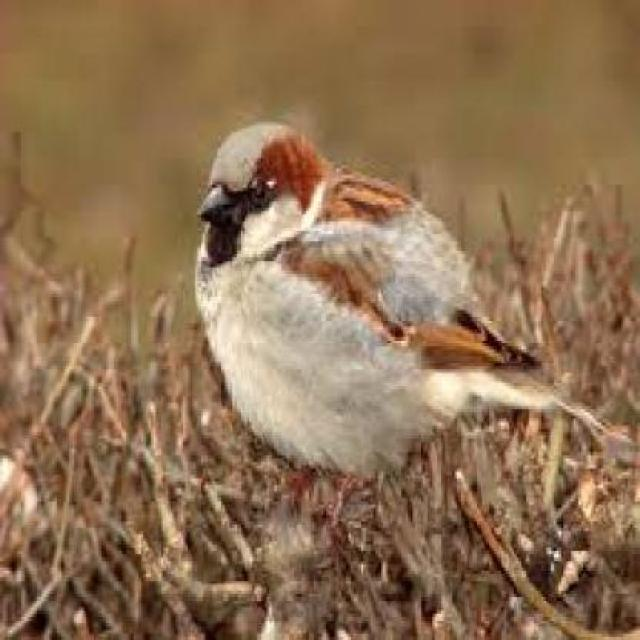sparrow: (195, 123, 547, 480)
